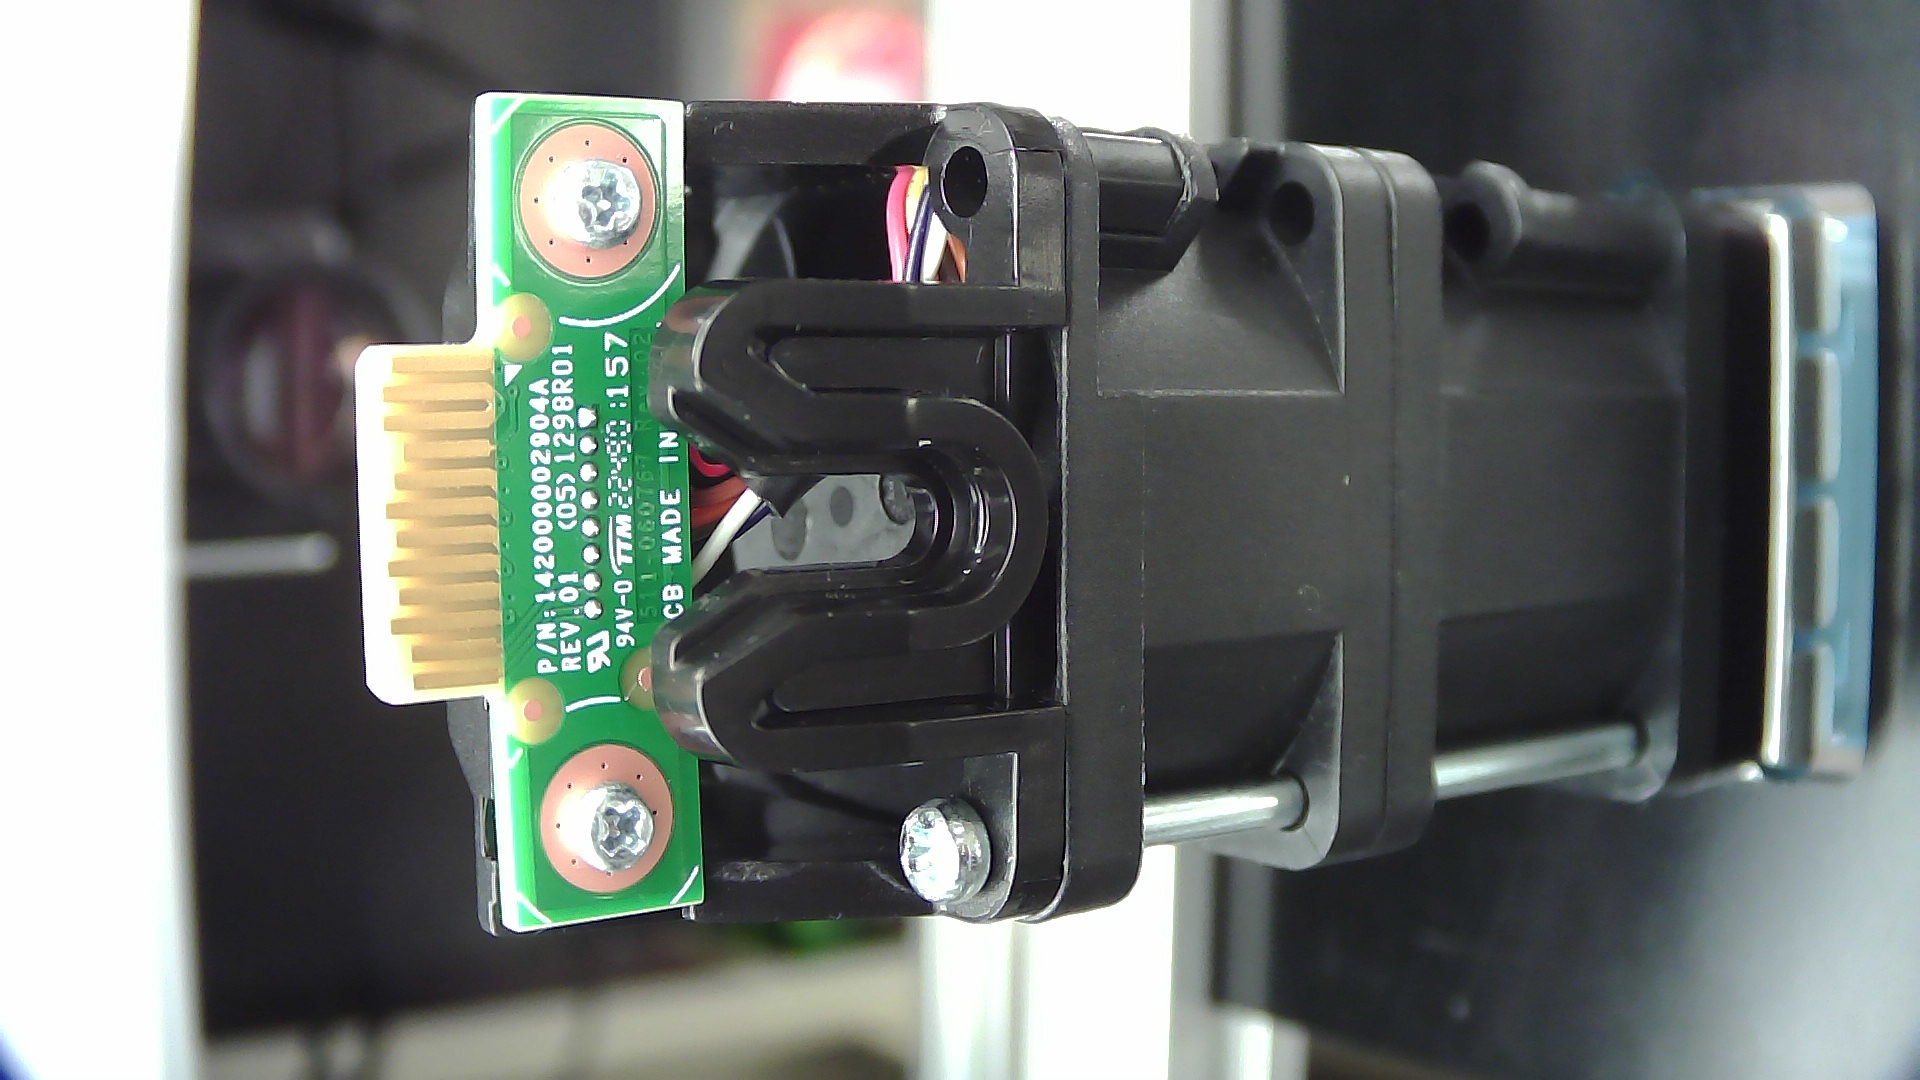6_4: (444, 423, 1491, 816)
